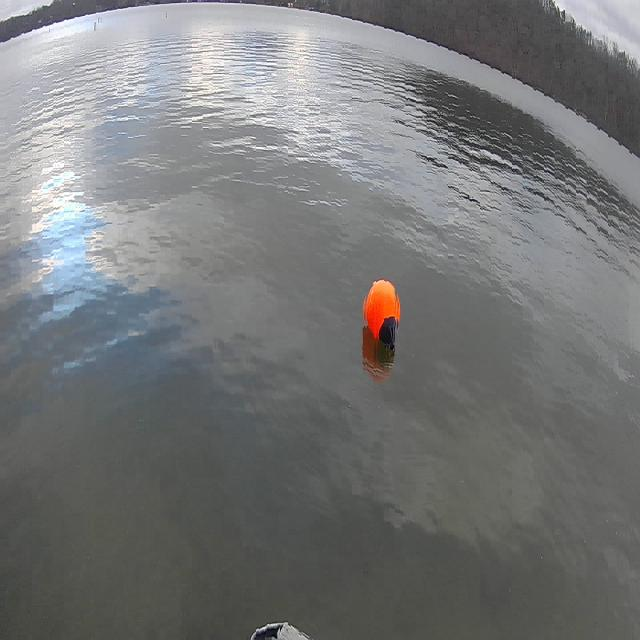Buoy: (362, 270, 404, 351)
